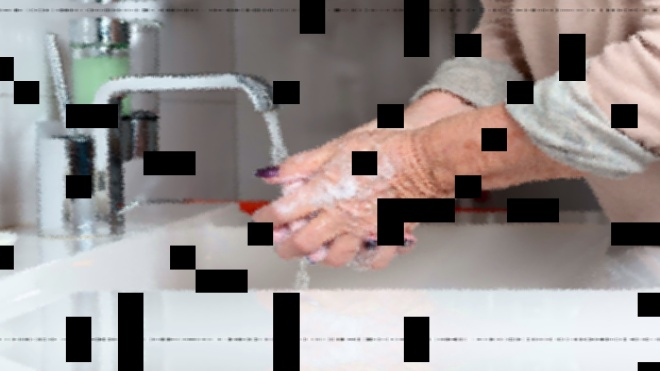washing hand: (167, 52, 436, 282)
